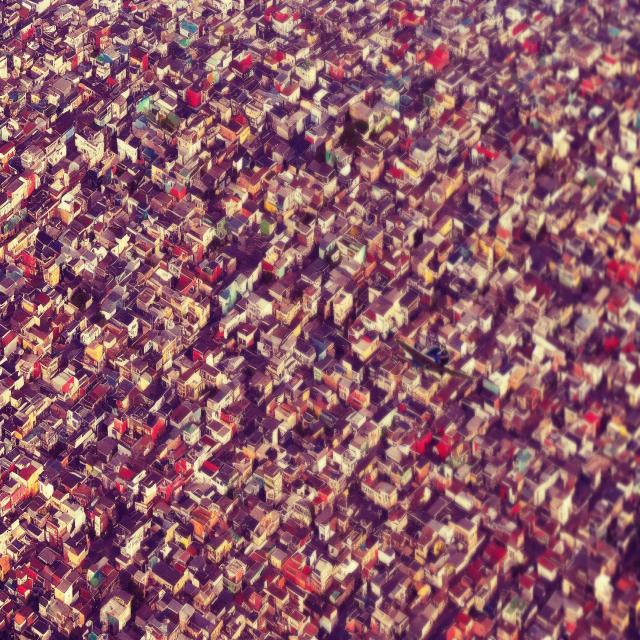airplane: (398, 336, 471, 380)
